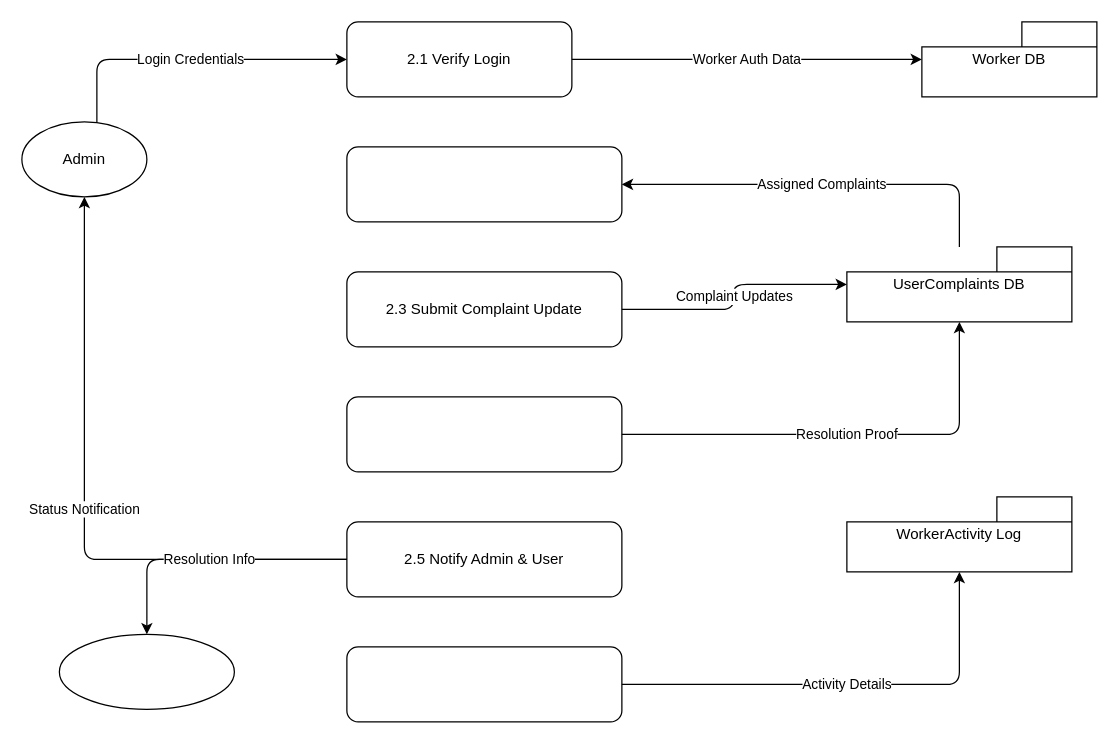
This 1119x744 diagram has some shape labels left out. Each missing label, with the centre of its shape:
"2.2 Fetch Assigned Complaints" belongs at [484,184].
"2.4 Upload Resolution Proof" belongs at [484,434].
"2.6 Record Activity Log" belongs at [484,684].
"User" belongs at [146,671].
